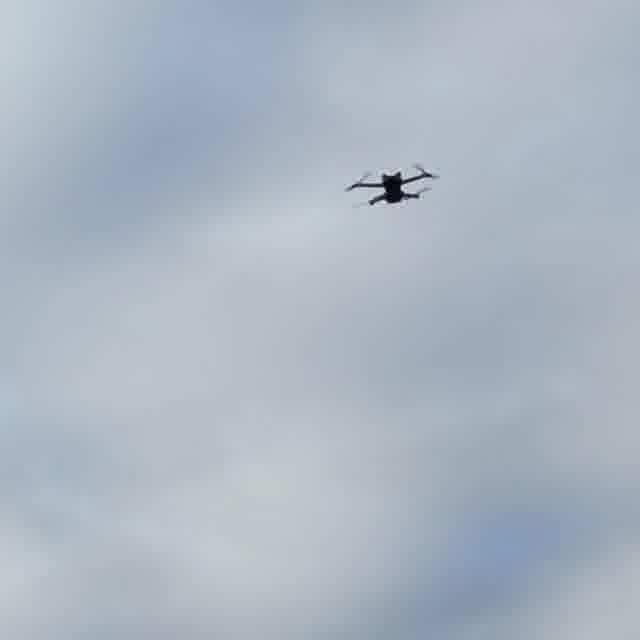Drohne: (346, 165, 438, 205)
